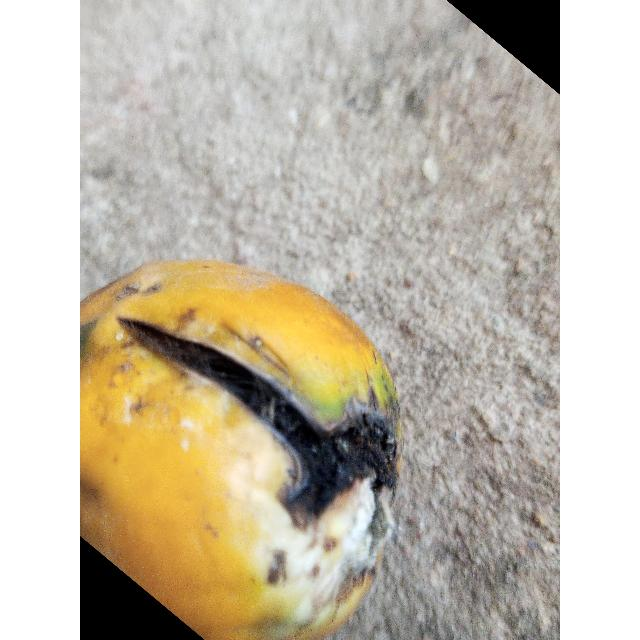damaged: (80, 260, 402, 640)
